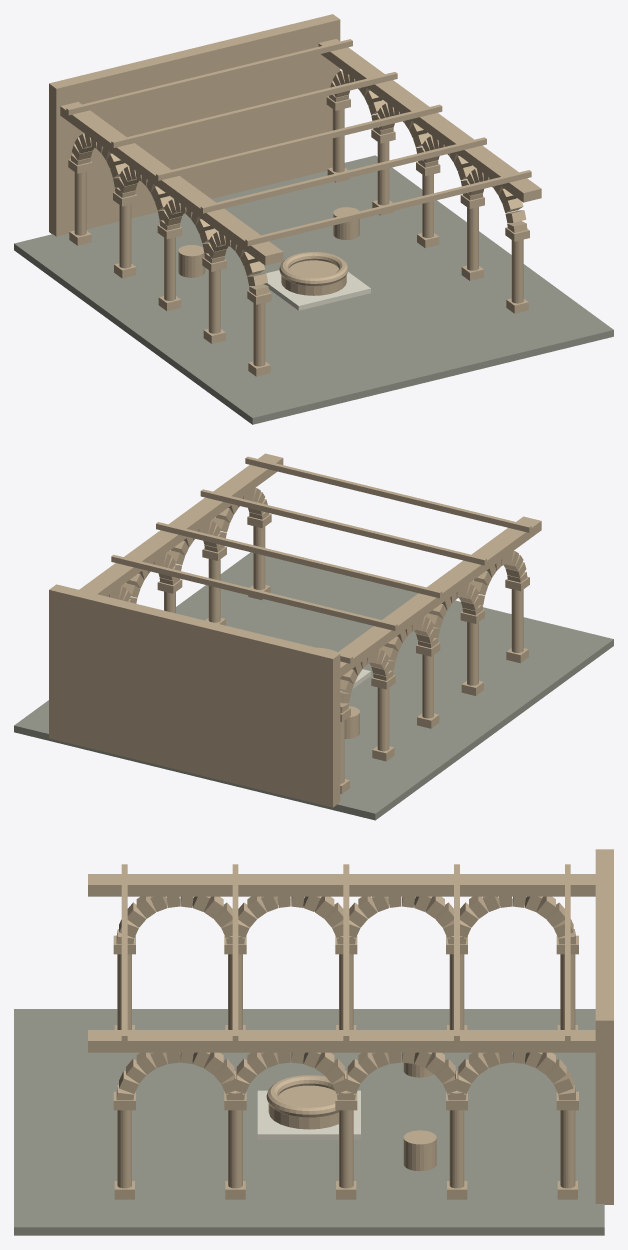
3 views of the same model, one above another, from view 1: azimuth 30°, elevation 25°; view 2: azimuth 150°, elevation 25°; view 3: azimuth 270°, elevation 25° (orthographic). The views are drawn at different scales.
Visible parts, largest first — view 1: Courtyard floor, Rear wall, Arcade cornice, Arcade cornice.001, Museum roof beam, Museum roof beam.002, Museum roof beam.001, Museum roof beam.004, Museum roof beam.003, Renaissance plinth, Wellhead base, Wellhead rim (+12 smaller); view 2: Rear wall, Courtyard floor, Arcade cornice, Arcade cornice.001, Museum roof beam.001, Museum roof beam, Museum roof beam.002, Museum roof beam.003, Arcade column.003, Arcade column, Arcade column.002, Arcade column.001 (+2 smaller); view 3: Courtyard floor, Arcade cornice.001, Arcade cornice, Rear wall, Wellhead base, Renaissance plinth, Wellhead rim, Contemporary planter.001, Museum roof beam, Museum roof beam.001, Museum roof beam.002, Arcade column.008 (+11 smaller).
Part boxes in pixels (x1,y1,x2,y2): Courtyard floor: (14, 155, 613, 424); Rear wall: (49, 14, 340, 236); Arcade cornice: (60, 101, 283, 265); Arcade cornice.001: (318, 39, 541, 202); Museum roof beam: (245, 170, 531, 246); Museum roof beam.002: (156, 104, 442, 180); Museum roof beam.001: (200, 137, 486, 213); Museum roof beam.004: (66, 39, 352, 115); Museum roof beam.003: (111, 72, 397, 147); Renaissance plinth: (264, 270, 370, 310); Wellhead base: (281, 260, 346, 295); Wellhead rim: (279, 252, 348, 286); Rear wall: (49, 584, 340, 807); Courtyard floor: (14, 552, 613, 820); Arcade cornice: (337, 516, 541, 677); Arcade cornice.001: (79, 453, 283, 596); Museum roof beam.001: (200, 489, 486, 565); Museum roof beam: (245, 456, 531, 532); Museum roof beam.002: (156, 522, 442, 598); Museum roof beam.003: (111, 554, 397, 630); Arcade column.003: (377, 687, 389, 751); Arcade column: (511, 589, 523, 652); Arcade column.002: (422, 654, 433, 718); Arcade column.001: (467, 622, 478, 685); Courtyard floor: (14, 1009, 604, 1235); Arcade cornice.001: (88, 1030, 595, 1052); Arcade cornice: (88, 874, 595, 896); Rear wall: (595, 849, 613, 1204); Wellhead base: (268, 1085, 338, 1129); Renaissance plinth: (257, 1090, 360, 1139); Wellhead rim: (266, 1075, 338, 1117); Contemporary planter.001: (403, 1130, 436, 1171); Museum roof beam: (121, 864, 127, 1042); Museum roof beam.001: (232, 864, 238, 1042); Museum roof beam.002: (343, 864, 349, 1042); Arcade column.008: (449, 1110, 464, 1188).
Bounding box in the file's own units: 14 × 5.73 × 16.25.
